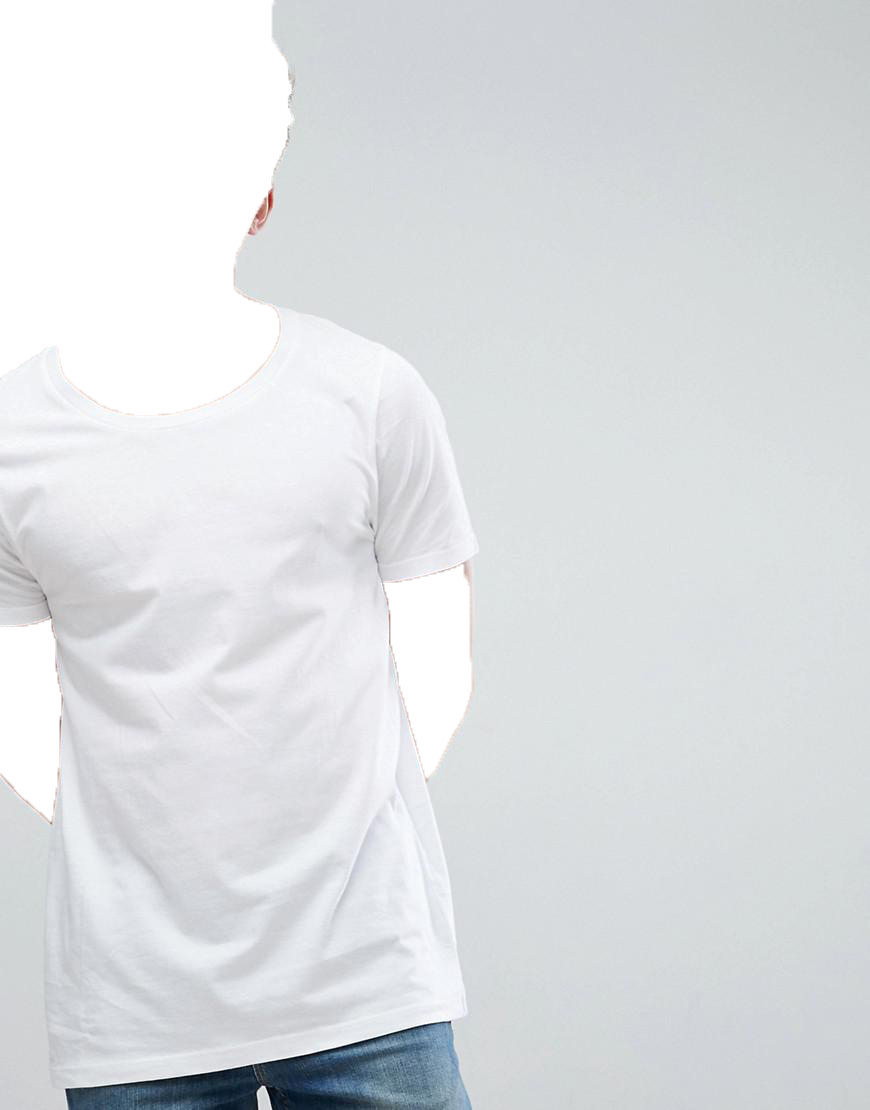teeshirt: (1, 293, 491, 1107)
